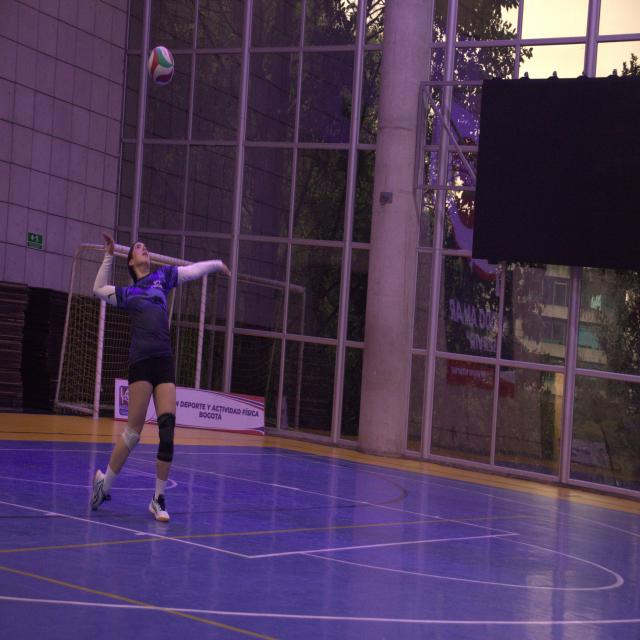volleyball: (148, 46, 175, 86)
